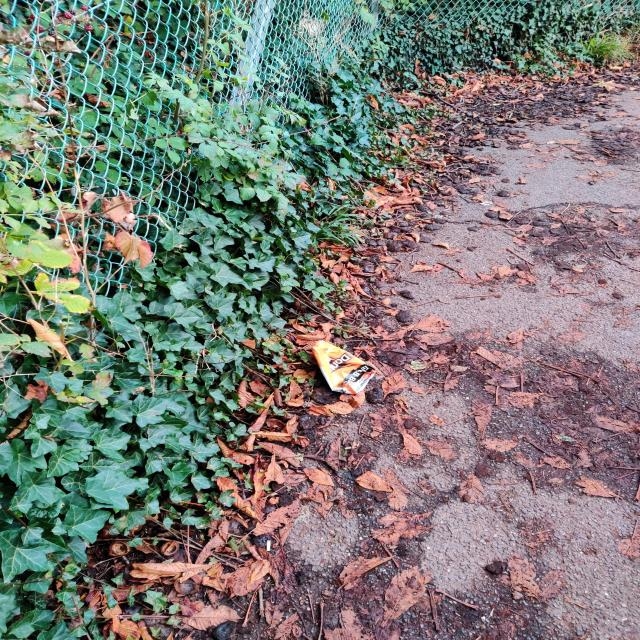litter: (311, 342, 372, 393)
